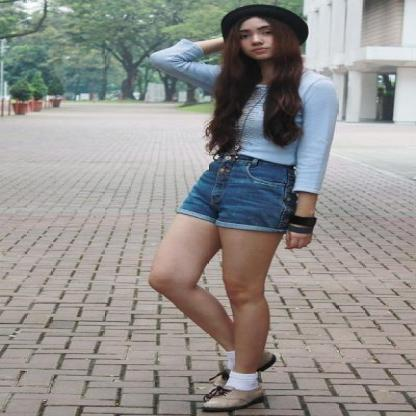hat: (220, 4, 308, 38)
jacket: (138, 39, 348, 191)
shoe: (183, 375, 283, 406)
shorts: (179, 147, 311, 238)
